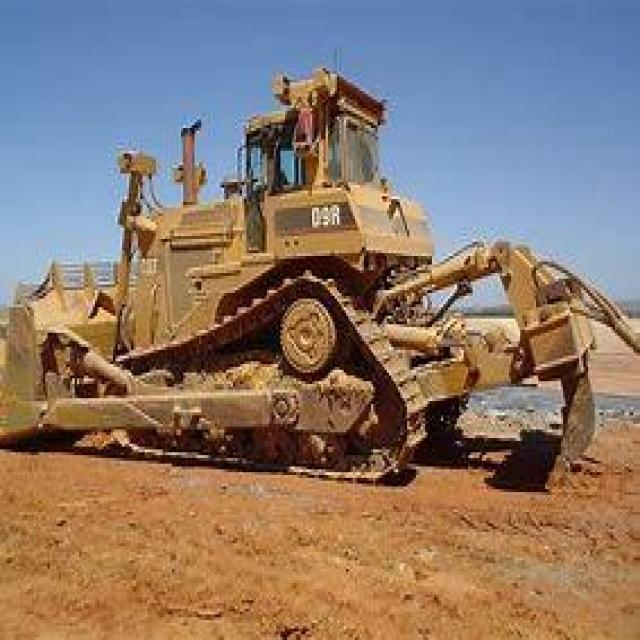Bulldozer: (11, 62, 608, 520)
